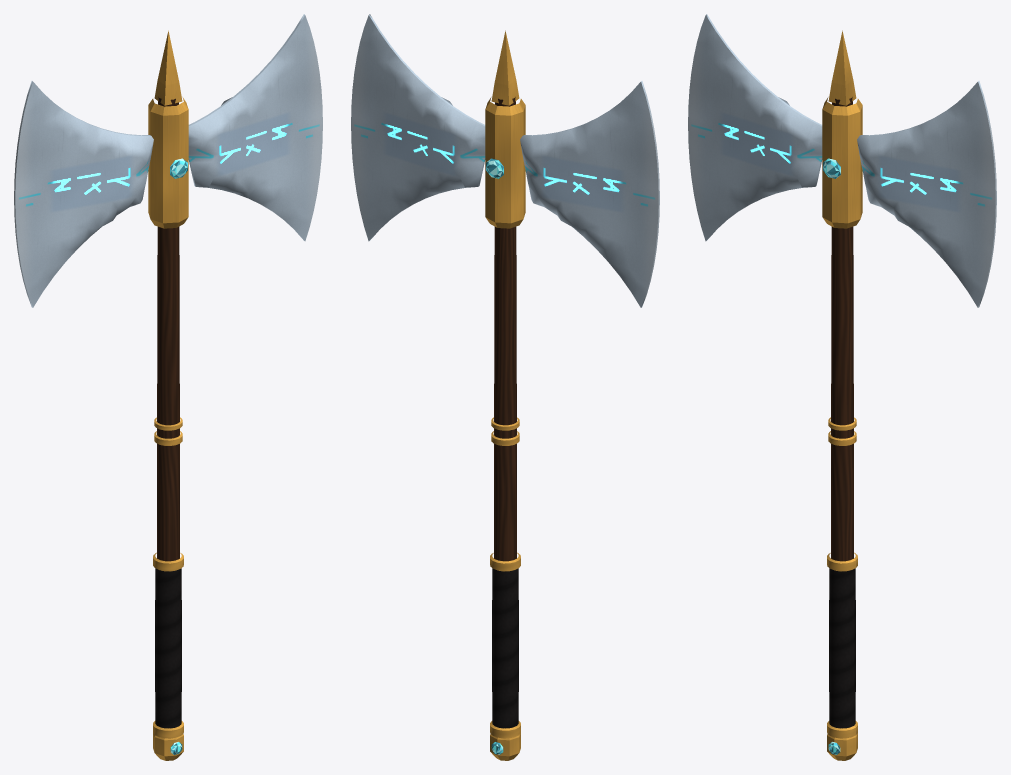
Rendered from GlacierCleaver.glb.
3 views of the same model, side by side, from view 1: azimuth 30°, elevation 25°; view 2: azimuth 150°, elevation 25°; view 3: azimuth 330°, elevation 25° (orthographic).
Visible parts, largest first — view 1: GlacierCleaver; view 2: GlacierCleaver; view 3: GlacierCleaver.
Part boxes in pixels (x1,y1,x2,y2): GlacierCleaver: (14, 14, 322, 760); GlacierCleaver: (351, 14, 659, 760); GlacierCleaver: (688, 14, 996, 760).
Bounding box in the file's own units: 2.21 × 5 × 0.296.
Materials: 1 (1 with a texture image).
